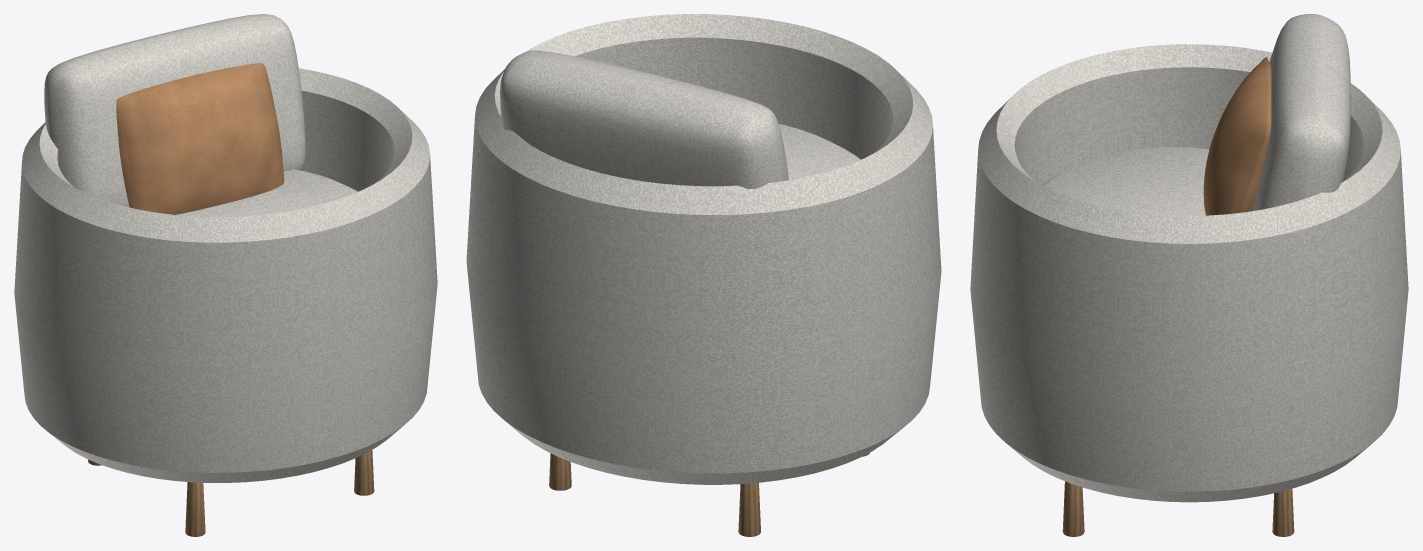
The model's file is sillon-boucle-v2.gltf.
The picture shows the model from 3 angles, left to right: view 1: azimuth 30°, elevation 25°; view 2: azimuth 150°, elevation 25°; view 3: azimuth 270°, elevation 25°; orthographic projection. The views are drawn at different scales.
Parts seen in each view (by area): view 1: sillon-boucle__f_boucle, sillon-boucle__f_cuero, sillon-boucle__w_roble; view 2: sillon-boucle__f_boucle, sillon-boucle__w_roble; view 3: sillon-boucle__f_boucle, sillon-boucle__f_cuero, sillon-boucle__w_roble.
Part boxes in pixels (left/top/right/bottom): sillon-boucle__f_boucle: left=14, top=14, right=437, bottom=482; sillon-boucle__f_cuero: left=116, top=63, right=284, bottom=214; sillon-boucle__w_roble: left=88, top=450, right=374, bottom=536; sillon-boucle__f_boucle: left=466, top=14, right=941, bottom=484; sillon-boucle__w_roble: left=549, top=452, right=869, bottom=536; sillon-boucle__f_boucle: left=970, top=14, right=1408, bottom=502; sillon-boucle__f_cuero: left=1203, top=57, right=1271, bottom=215; sillon-boucle__w_roble: left=1062, top=481, right=1294, bottom=536.
Bounding box in the file's own units: 0.84 × 0.8553 × 0.798.
3 materials, 3 textured.
